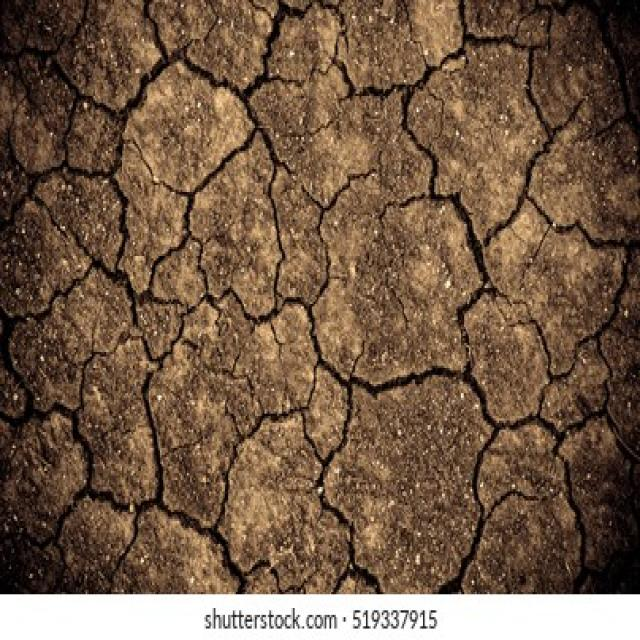Clay Soil: (46, 46, 604, 536)
